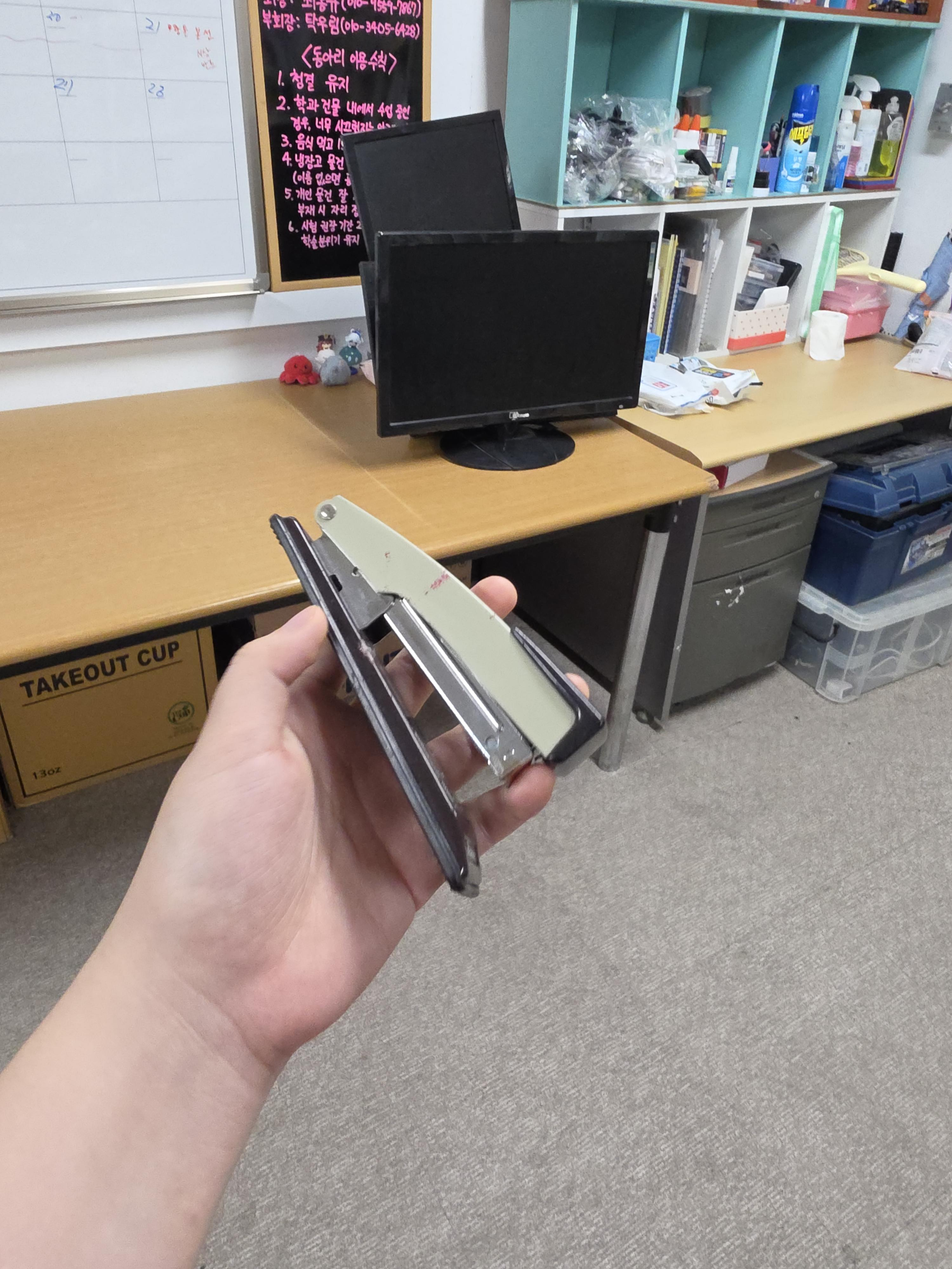stapler: (269, 495, 605, 898)
tissue: (808, 310, 848, 361)
